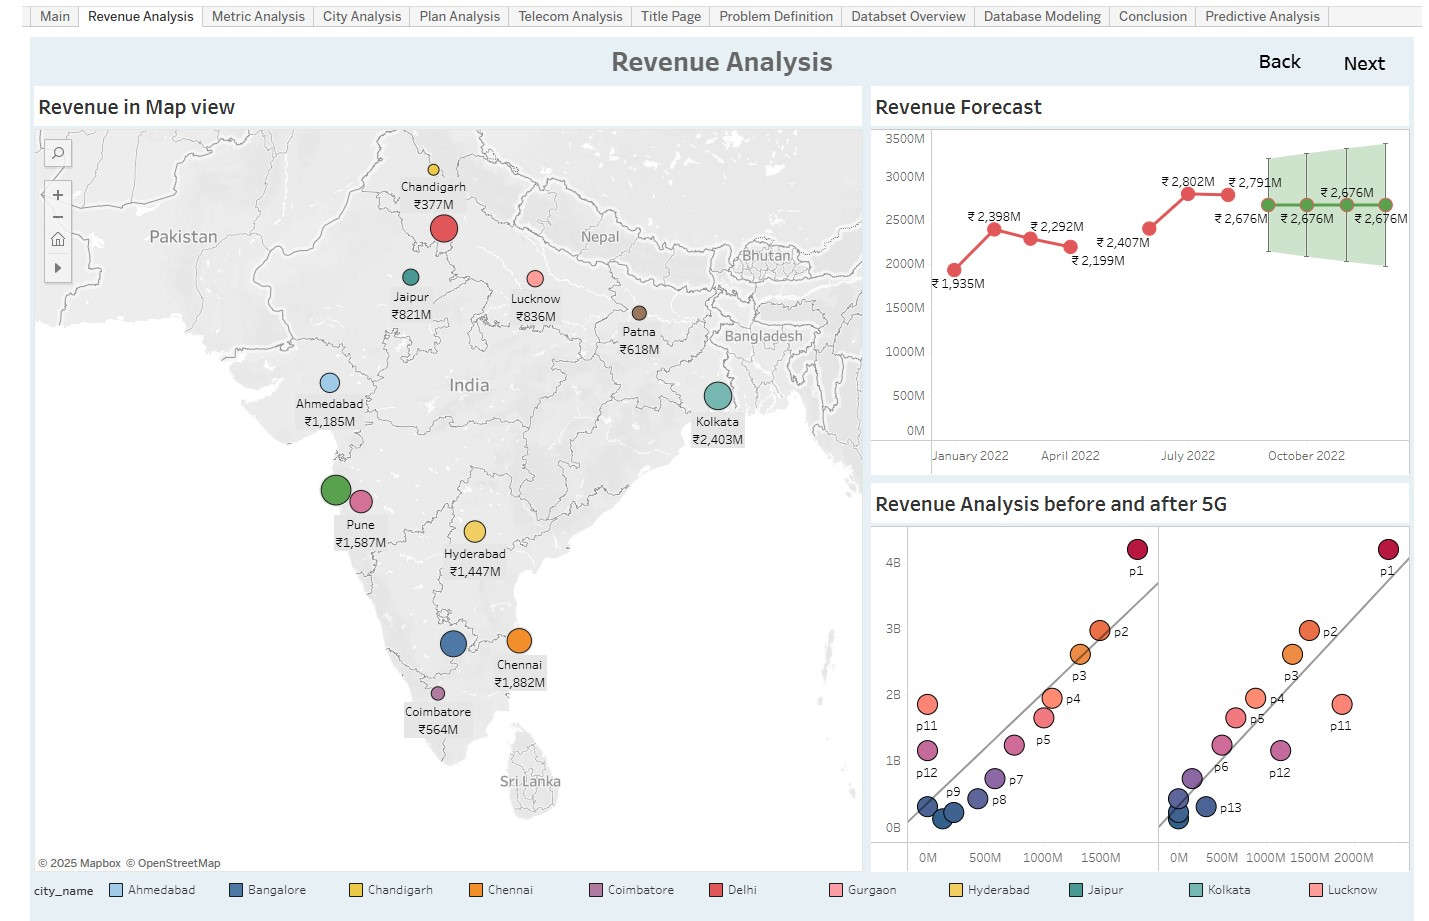

Layout of this report page (visuals, bound fields, positions):
{"tool":"tableau","page":{"name":"Revenue Analysis","canvas":[1400,900],"ordinal":9},"visuals":[{"type":"text","box":[8,8,1384,45]},{"type":"dashboard-object","box":[1218,18,79,26]},{"type":"dashboard-object","box":[1303,20,79,26]},{"type":"worksheet","title":"Revenue in Map view","mark":"Automatic","box":[8,53,836.9,794]},{"type":"worksheet","title":"Revenue Forecast","mark":"Line","rows":["Calculation_753508526968487940","Calculation_753508526968487940"],"cols":["Calculation_756886253988470785"],"box":[844.8,53,547.2,397]},{"type":"worksheet","title":"Revenue Analysis before and after 5G","mark":"Circle","rows":["Calculation_753508526968487940"],"cols":["After 5G Revenue (copy)","Calculation_531143295757922313"],"box":[844.8,450,547.2,397]},{"type":"legend","title":"Revenue in Map view","param":"[federated.1ickzbu18otixb1927m150vmv2bb].[none:city_name:nk]","box":[8,847,1384,45]}]}

Visuals, with their boxes on the page's 1400x900 design canvas (x1, y1, x2, y2). These are canvas units, not pixel positions in the 1429x921 screenshot, which may show the page scaled, cropped or inside an application window:
text: select_region(8, 8, 1392, 53)
dashboard-object: select_region(1218, 18, 1297, 44)
dashboard-object: select_region(1303, 20, 1382, 46)
"Revenue in Map view" worksheet: select_region(8, 53, 845, 847)
"Revenue Forecast" worksheet (Line marks): select_region(845, 53, 1392, 450)
"Revenue Analysis before and after 5G" worksheet (Circle marks): select_region(845, 450, 1392, 847)
"Revenue in Map view" legend: select_region(8, 847, 1392, 892)
